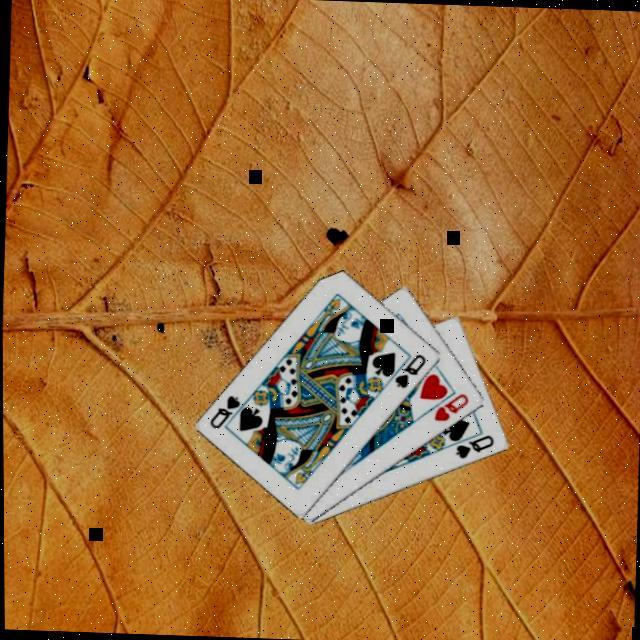QH: (432, 388, 473, 424)
QS: (392, 348, 430, 389), (208, 390, 245, 431), (453, 429, 498, 462)
